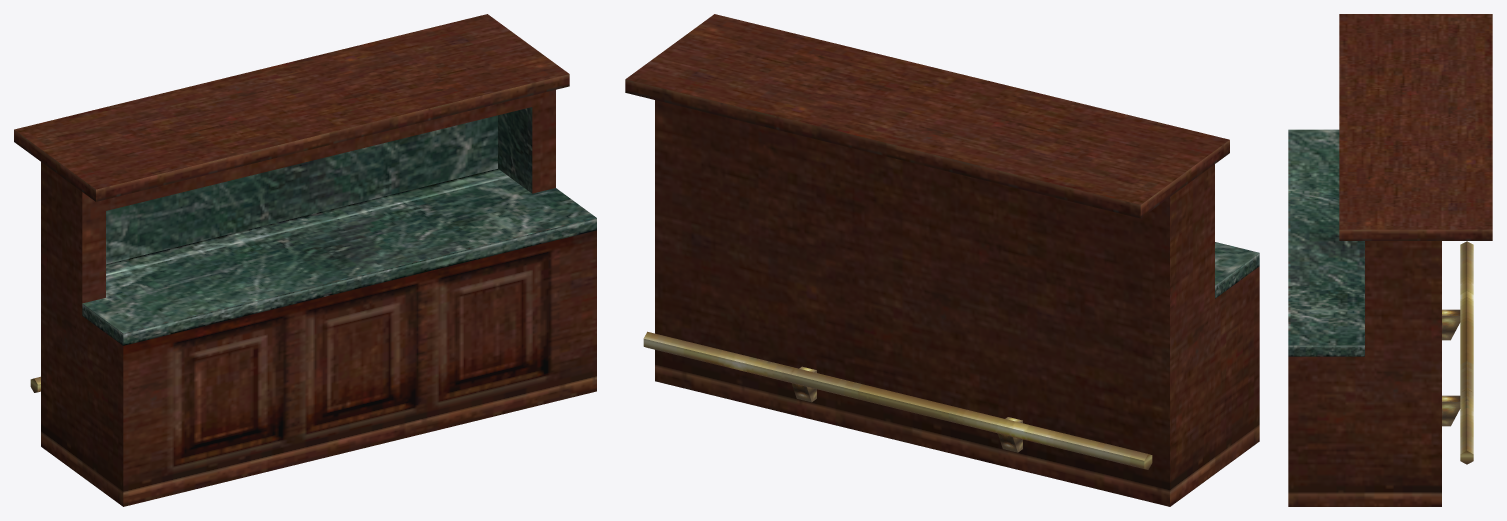
The model's file is woodbar_nosink.fbx.
The picture shows the model from 3 angles, left to right: view 1: azimuth 30°, elevation 25°; view 2: azimuth 150°, elevation 25°; view 3: azimuth 270°, elevation 25°; orthographic projection. The views are drawn at different scales.
Visible parts, largest first — view 1: mesh_0; view 2: mesh_0; view 3: mesh_0.
Part boxes in pixels (box(x1,y1,x2,y2)): mesh_0: box(14, 14, 596, 506); mesh_0: box(625, 14, 1259, 506); mesh_0: box(1288, 14, 1492, 506).
Bounding box in the file's own units: 200 × 120 × 80.
1 material, 1 textured.
